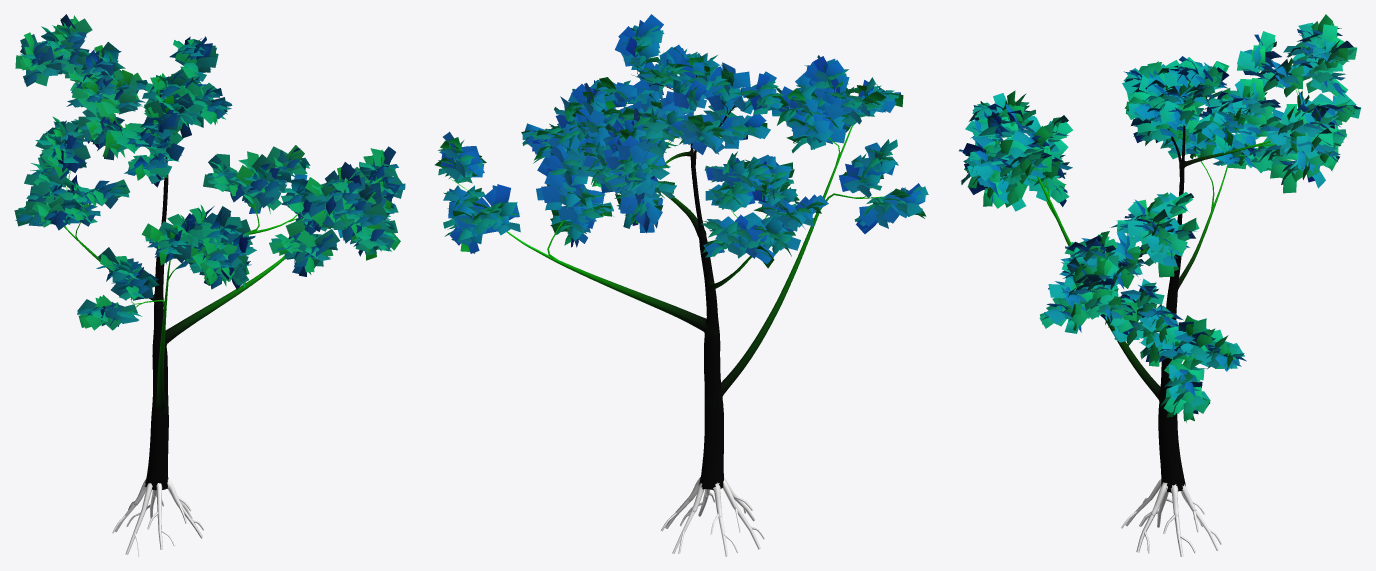
The picture shows the model from 3 angles, left to right: view 1: azimuth 30°, elevation 25°; view 2: azimuth 150°, elevation 25°; view 3: azimuth 270°, elevation 25°; orthographic projection. The views are drawn at different scales.
Parts seen in each view (by area): view 1: Foliage, Trunk, Branches, RootTips, Twigs; view 2: Foliage, Trunk, Branches, RootTips, Twigs; view 3: Foliage, Trunk, RootTips, Branches, Twigs, Roots.
Boxes of the visible parts, x1,y1,x2,y2 form: Foliage: (14,14,405,330); Trunk: (144,175,168,490); Branches: (80,148,297,411); RootTips: (112,483,203,556); Twigs: (60,57,345,318); Foliage: (435,14,928,268); Trunk: (690,149,723,490); Branches: (532,151,837,396); RootTips: (661,477,764,556); Twigs: (451,67,884,274); Foliage: (959,14,1360,422); Trunk: (1158,160,1185,492); RootTips: (1121,479,1221,556); Branches: (1044,143,1265,399); Twigs: (990,66,1319,365); Roots: (1151,482,1196,516).
Size of the model in its own units: 15379 by 13030 by 18472.
